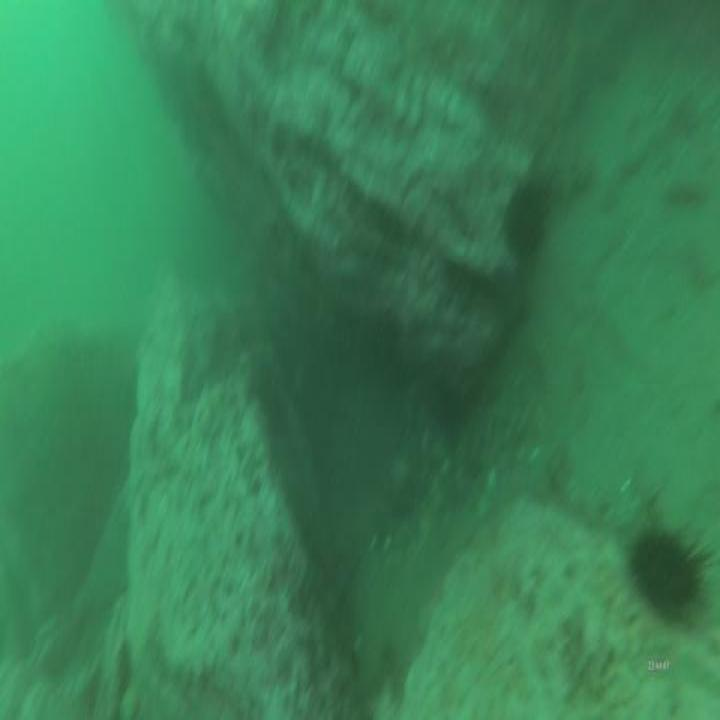echinus: (624, 508, 711, 624), (500, 181, 548, 267)
